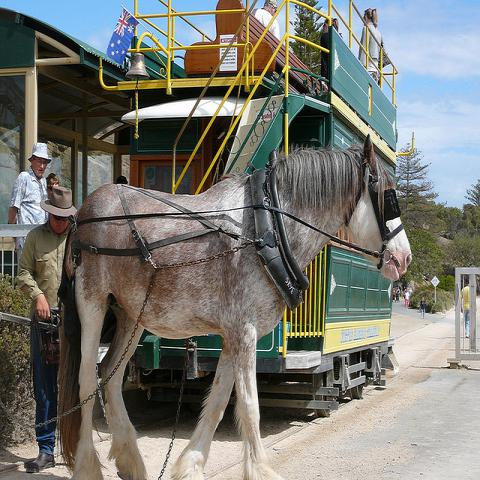truck: (122, 2, 399, 410)
